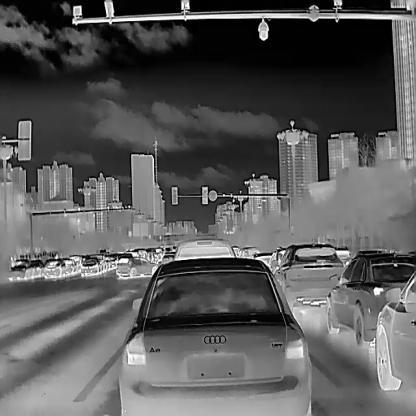car: (118, 257, 311, 415), (325, 249, 415, 345), (271, 241, 344, 311), (374, 268, 415, 390), (172, 237, 237, 259), (117, 256, 159, 276), (8, 257, 30, 278), (43, 257, 66, 276), (81, 256, 98, 273), (237, 245, 259, 258), (29, 259, 44, 276), (61, 257, 76, 273)
